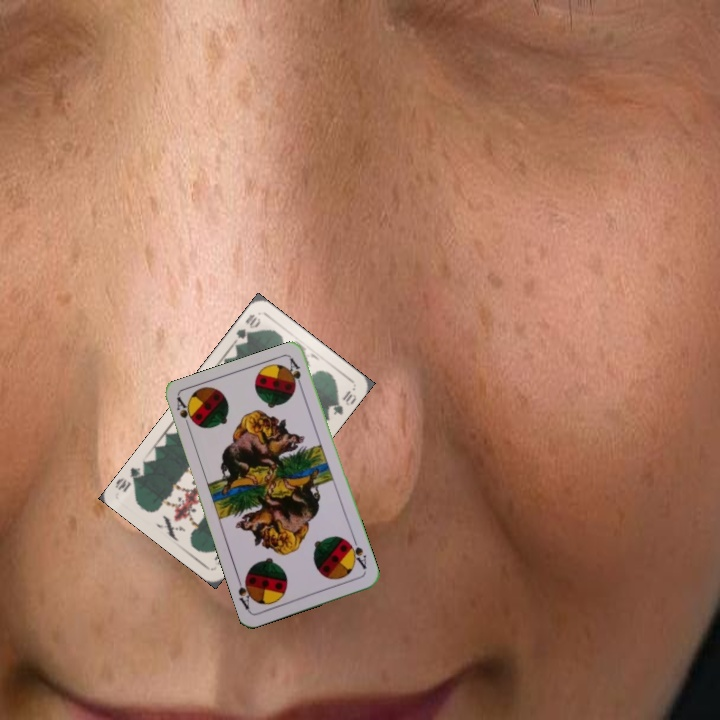G10: (230, 310, 263, 348)
SA: (172, 394, 197, 434), (344, 534, 369, 572)
